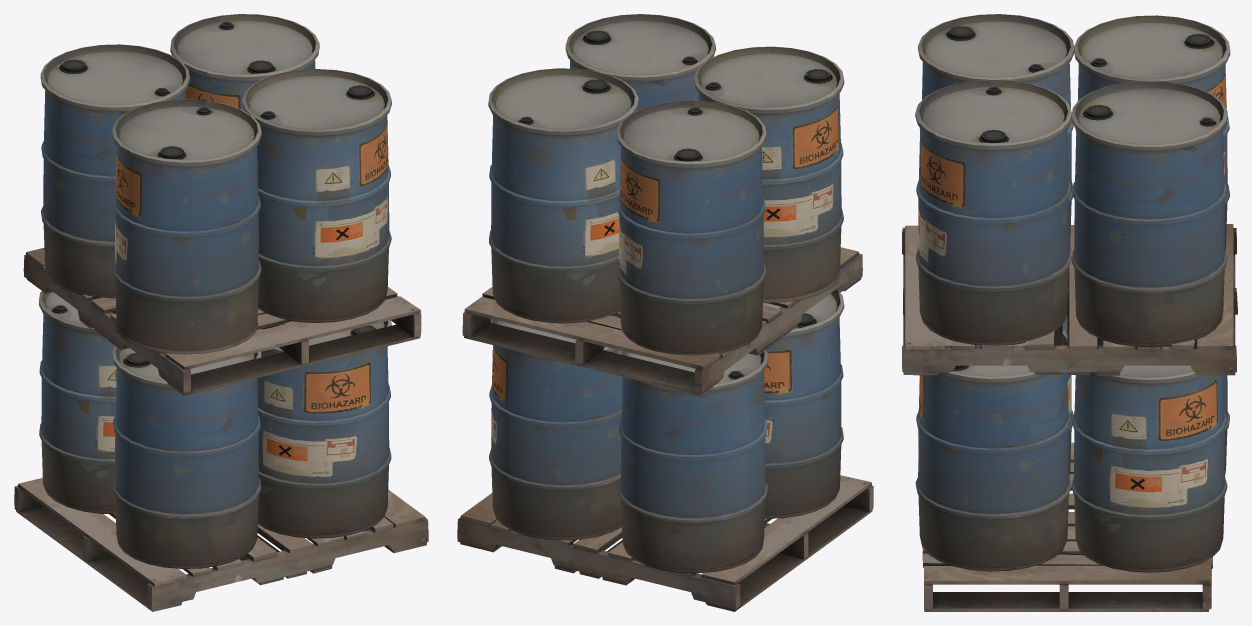
The picture shows the model from 3 angles, left to right: view 1: azimuth 30°, elevation 25°; view 2: azimuth 150°, elevation 25°; view 3: azimuth 270°, elevation 25°; orthographic projection. The views are drawn at different scales.
Parts seen in each view (by area): view 1: body0_model0_lod0_mesh0, body0_model0_lod0_mesh1; view 2: body0_model0_lod0_mesh0, body0_model0_lod0_mesh1; view 3: body0_model0_lod0_mesh0, body0_model0_lod0_mesh1.
Boxes of the visible parts, x1,y1,x2,y2 form: body0_model0_lod0_mesh0: [39, 14, 391, 568]; body0_model0_lod0_mesh1: [14, 248, 428, 611]; body0_model0_lod0_mesh0: [488, 14, 844, 573]; body0_model0_lod0_mesh1: [457, 247, 873, 611]; body0_model0_lod0_mesh0: [915, 14, 1230, 572]; body0_model0_lod0_mesh1: [902, 224, 1237, 611].
Size of the model in its own units: 74.84 by 113 by 74.84.
2 materials, 2 textured.
